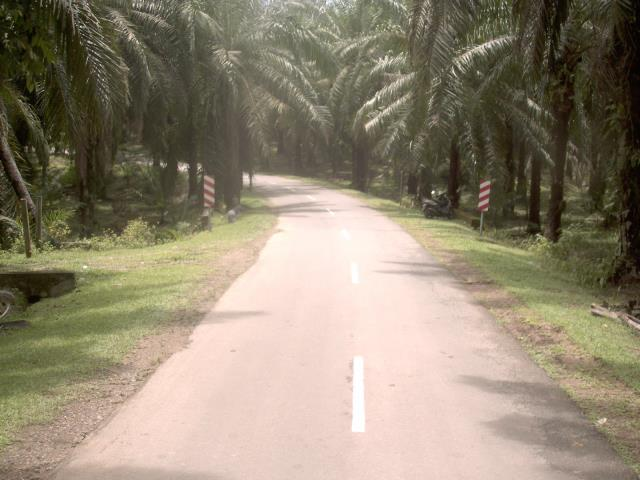traffic_sign: (470, 175, 495, 219), (198, 170, 219, 210)
